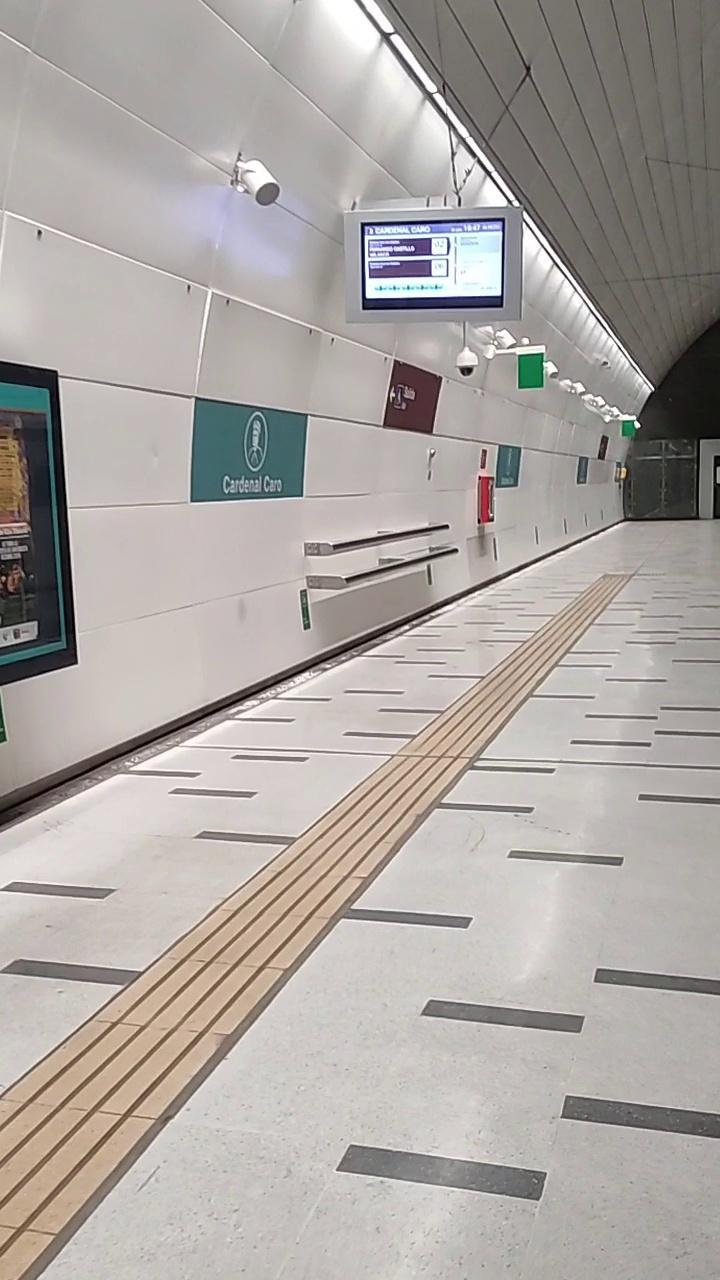handicapped symbol: (394, 387, 406, 408)
left arrow: (384, 386, 397, 404)
